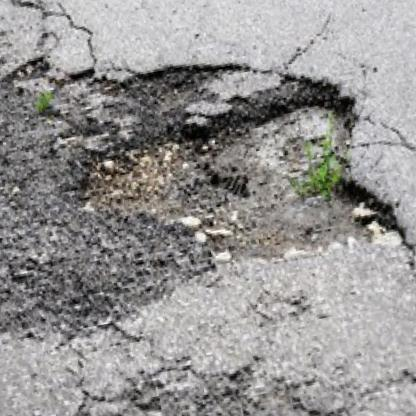pothole: (67, 58, 410, 299)
